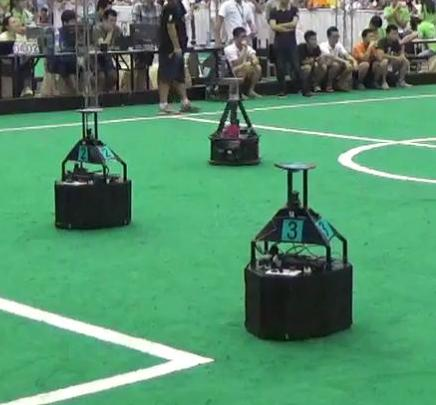robot: (240, 159, 359, 343), (49, 106, 136, 231), (205, 75, 265, 169)
